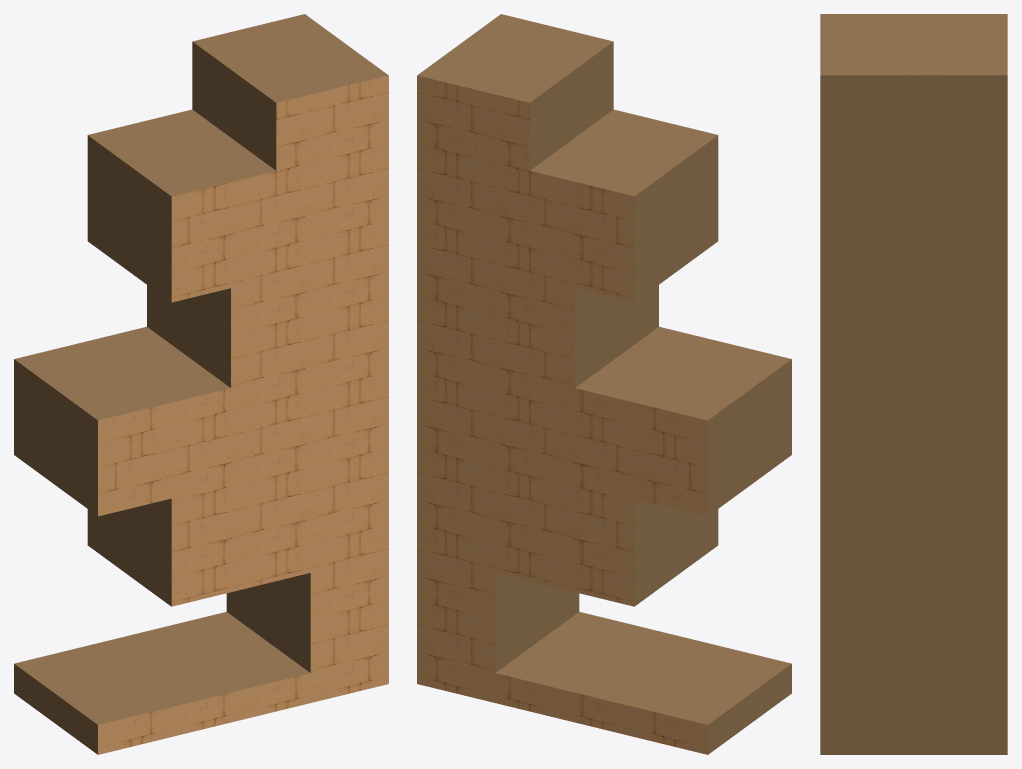
The model's file is Crumbled_Wall_2x4.fbx.
3 views of the same model, side by side, from view 1: azimuth 30°, elevation 25°; view 2: azimuth 150°, elevation 25°; view 3: azimuth 270°, elevation 25° (orthographic). The views are drawn at different scales.
Parts seen in each view (by area): view 1: Crumbled_Wall_2x4; view 2: Crumbled_Wall_2x4; view 3: Crumbled_Wall_2x4.
Part boxes in pixels (left/top/right/bottom): Crumbled_Wall_2x4: left=14, top=14, right=388, bottom=754; Crumbled_Wall_2x4: left=417, top=14, right=791, bottom=754; Crumbled_Wall_2x4: left=820, top=14, right=1007, bottom=754.
Size of the model in its own units: 200 by 400 by 100.
